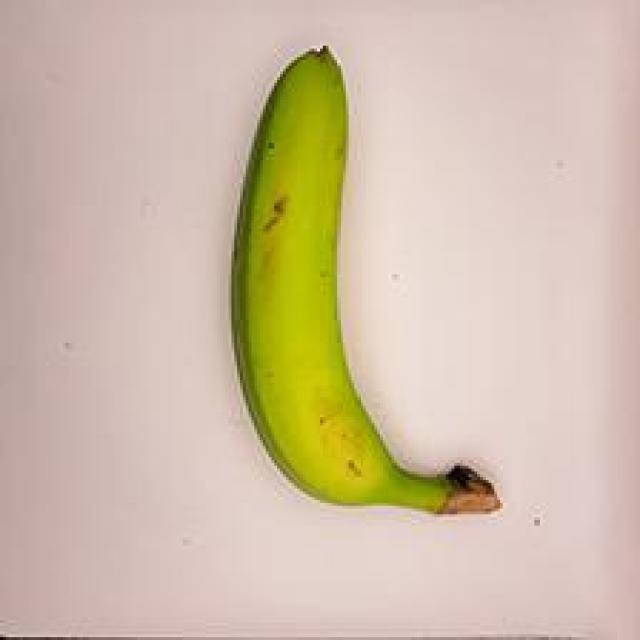Unripe: (193, 32, 514, 550)
